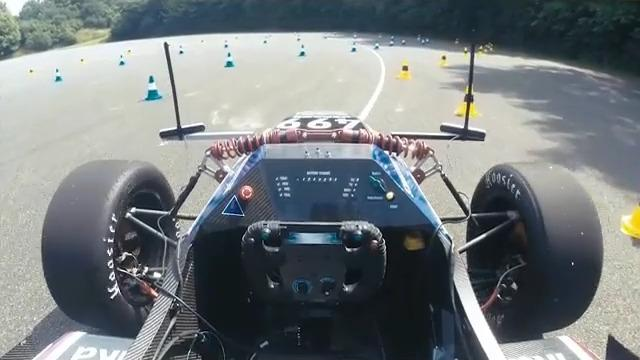blue_cone: (140, 73, 166, 100), (222, 51, 239, 70), (296, 43, 311, 61), (347, 38, 361, 57), (389, 34, 408, 47), (374, 40, 384, 52)
yellow_cone: (457, 84, 482, 117), (628, 185, 640, 241), (398, 57, 417, 81), (439, 53, 451, 66), (461, 44, 473, 55)
